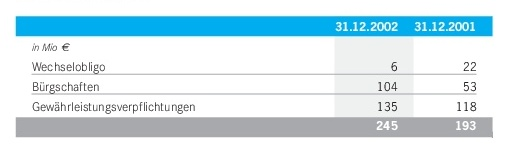table: (0, 0, 506, 150)
